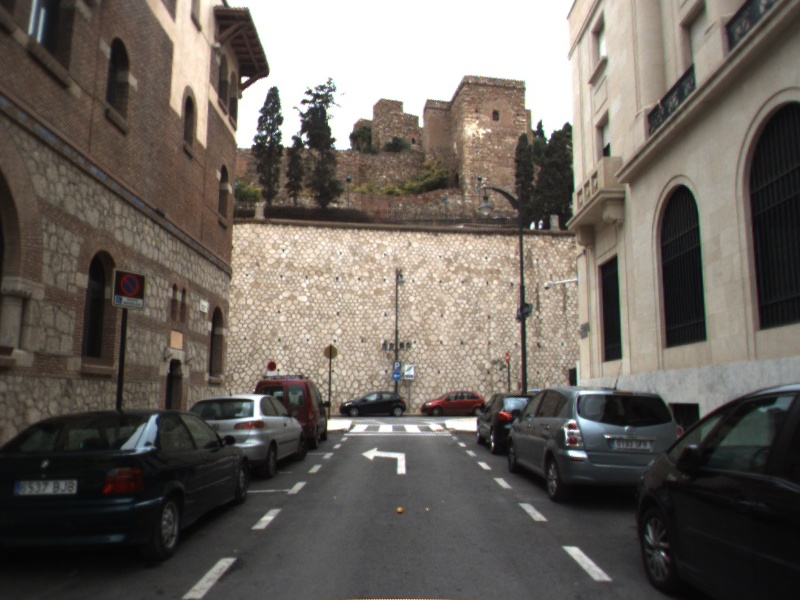LEFT: (360, 445, 408, 476)
